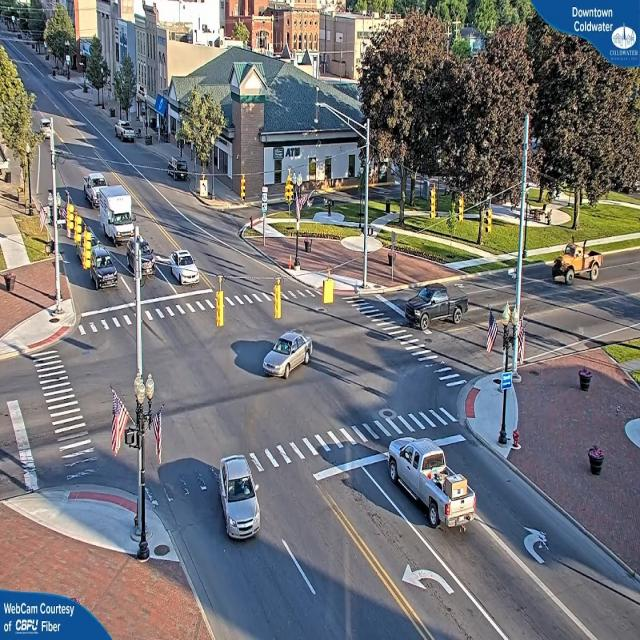car: (385, 440, 476, 536), (217, 458, 264, 543), (408, 283, 466, 325), (260, 331, 310, 379), (127, 234, 156, 279), (92, 245, 117, 292), (168, 250, 200, 285), (116, 123, 136, 143)
truck: (91, 180, 138, 244), (550, 238, 604, 286)
